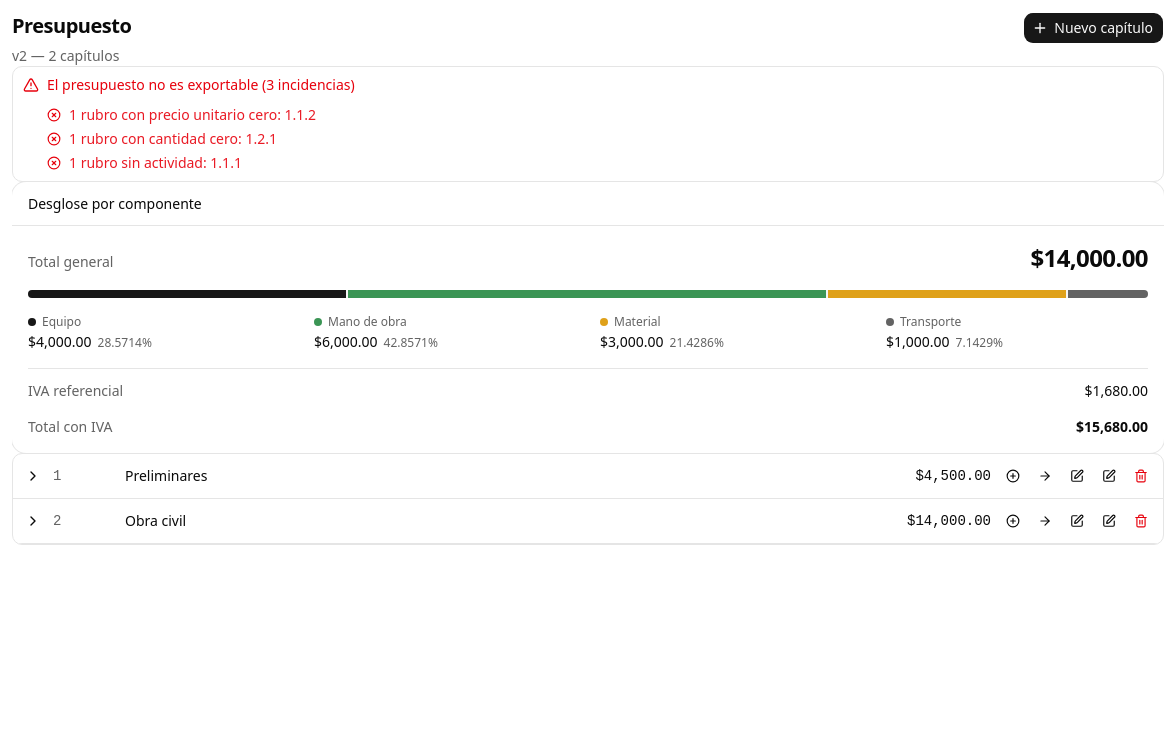
Scenario: PresupuestoPage › expande/colapsa capítulos al hacer clic en el chevron
The width and height of the screenshot is (1176, 732).
Check: the text "v2 — 2 capítulos" is shown, box [12,46,131,66]
Click the button without text in the row of "Preliminares" at (33, 476), box [21,464,45,488]
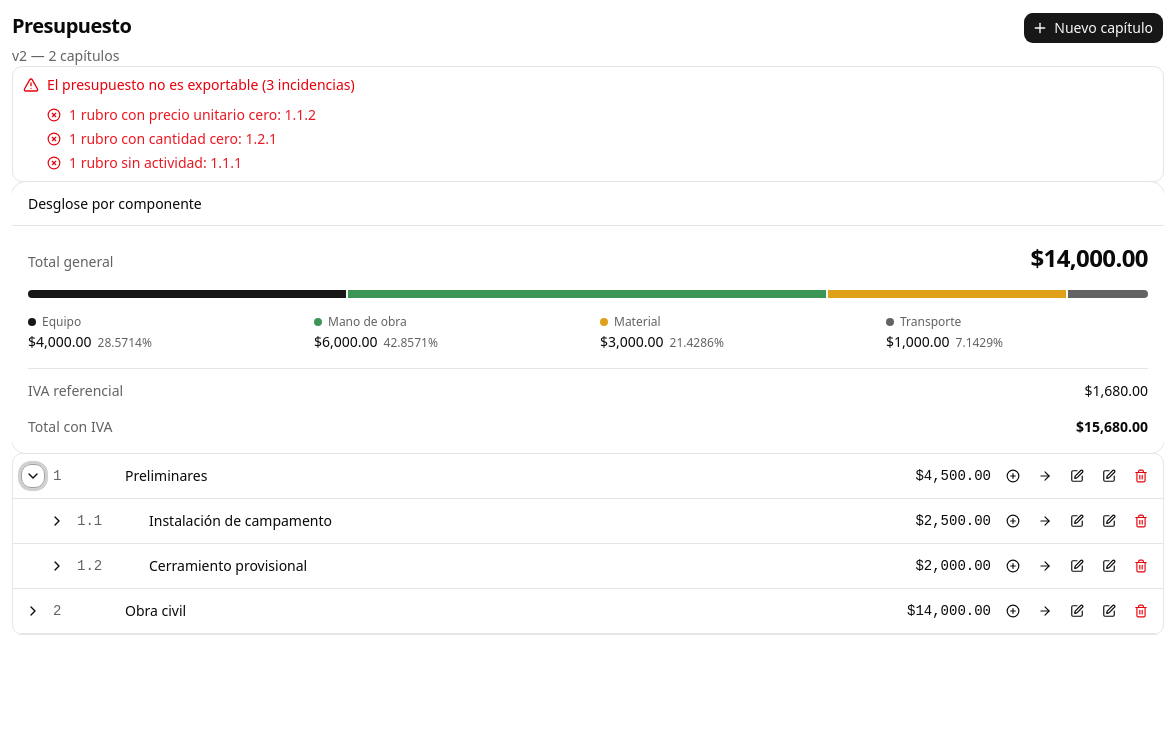
Check: the text "Instalación de campamento" is shown, box [149,511,332,530]
Click the button without text in the row of "Instalación de campamento" at (57, 521), box [45,509,69,533]
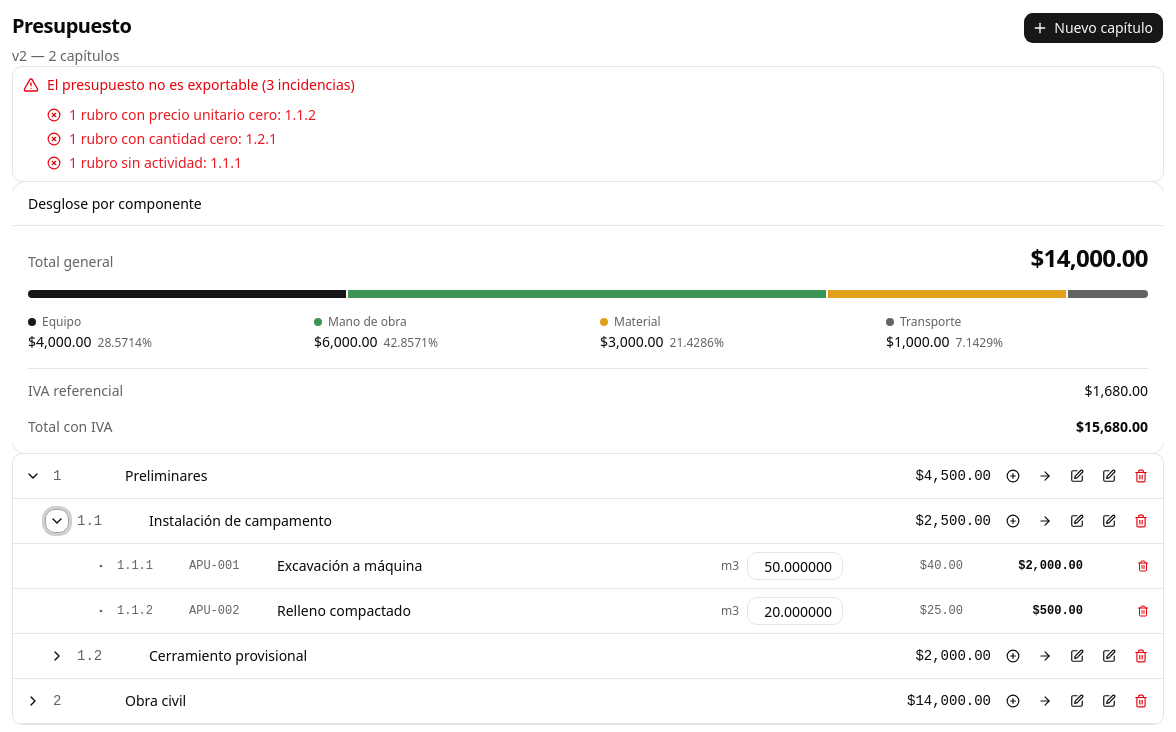
Check: the text "Excavación a máquina" is shown, box [277,556,422,575]
Click the button without text in the row of "Preliminares" at (33, 476), box [21,464,45,488]
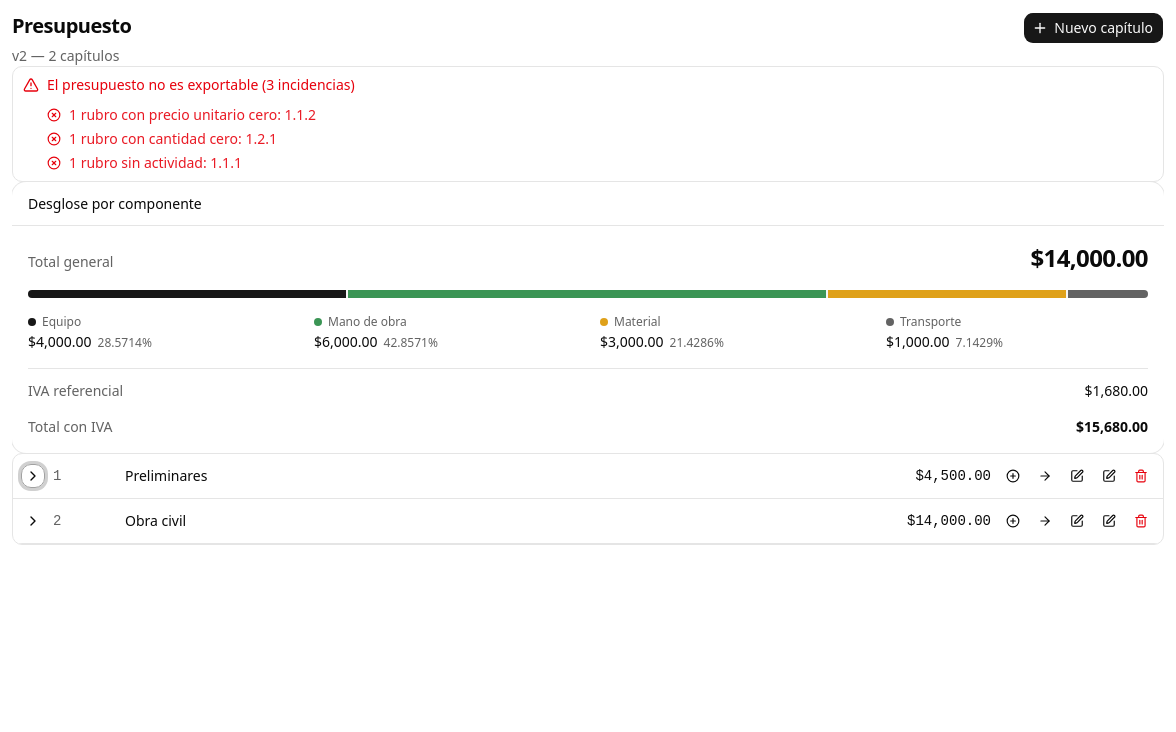
Check: the text "Excavación a máquina" is gone
